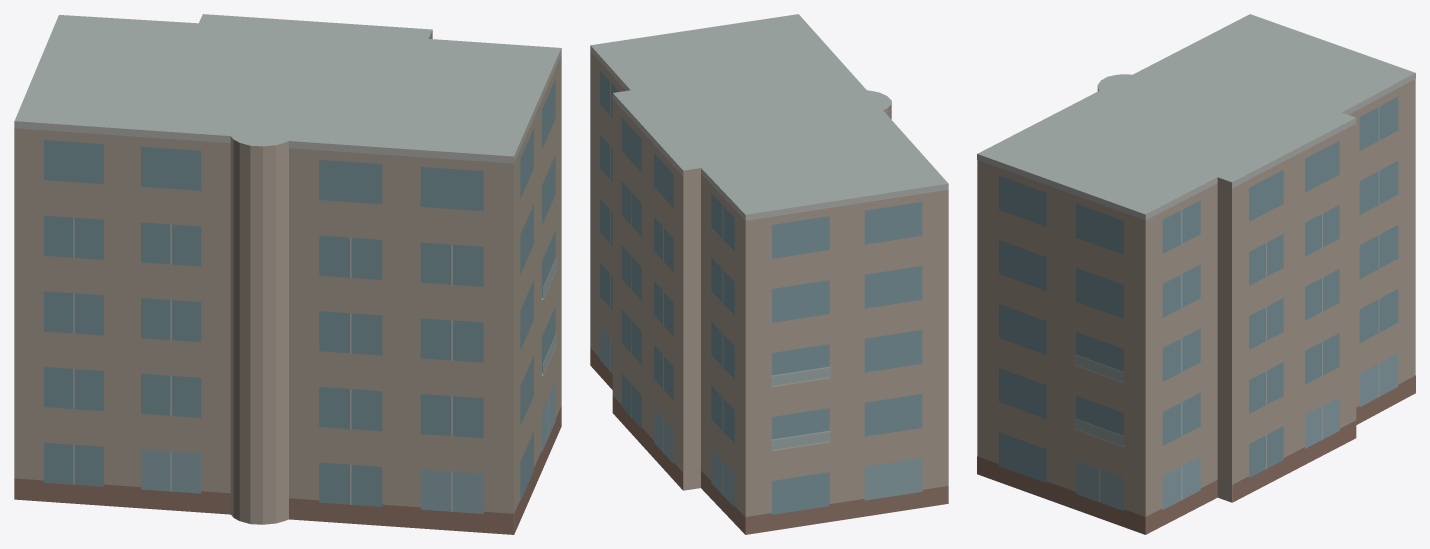
The model's file is survey-upis-32803319.glb.
3 views of the same model, side by side, from view 1: azimuth 30°, elevation 25°; view 2: azimuth 150°, elevation 25°; view 3: azimuth 270°, elevation 25° (orthographic). The views are drawn at different scales.
Parts seen in each view (by area): view 1: survey-upis-32803319.tmp; view 2: survey-upis-32803319.tmp; view 3: survey-upis-32803319.tmp.
Part boxes in pixels (x1,y1,x2,y2): survey-upis-32803319.tmp: (14,14,561,534); survey-upis-32803319.tmp: (590,14,948,534); survey-upis-32803319.tmp: (977,14,1415,534).
Bounding box in the file's own units: 17.46 × 13 × 16.14.
